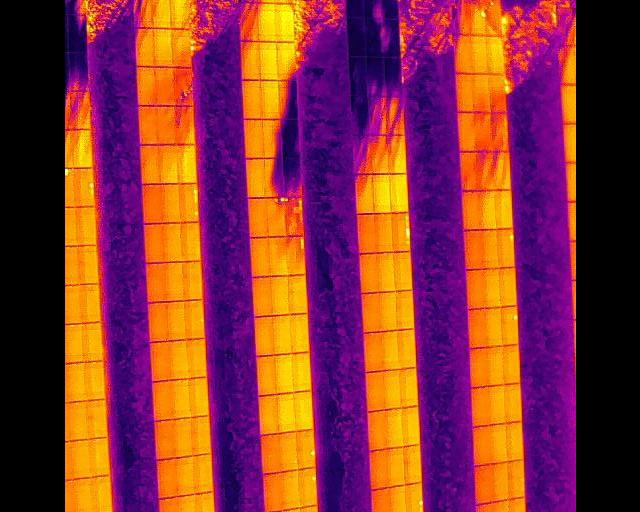Cell: (183, 301, 203, 340), (296, 430, 314, 470), (496, 230, 514, 269), (500, 306, 518, 345), (484, 0, 500, 36), (469, 0, 484, 36)
Cell-Multi: (72, 168, 93, 207), (178, 184, 198, 223), (389, 213, 409, 252), (285, 237, 303, 276), (266, 198, 284, 237), (299, 468, 316, 509), (284, 198, 302, 236), (506, 461, 523, 499), (404, 483, 422, 512)
No-Anomaly: (66, 439, 88, 480), (76, 246, 98, 285), (74, 207, 96, 246), (83, 362, 104, 402), (78, 284, 100, 322), (64, 402, 85, 441), (168, 380, 189, 419), (188, 378, 208, 418), (80, 323, 101, 361), (85, 401, 106, 439), (153, 67, 173, 106), (185, 339, 205, 378), (167, 341, 187, 380), (139, 145, 159, 184), (181, 261, 201, 300), (250, 238, 270, 277), (70, 129, 90, 168), (258, 394, 276, 437), (192, 455, 212, 493), (141, 184, 160, 224), (190, 417, 210, 455), (162, 262, 181, 302), (176, 145, 196, 183), (180, 223, 200, 261), (294, 391, 313, 431), (246, 158, 265, 198), (261, 434, 279, 476), (469, 348, 488, 387), (160, 184, 179, 223), (165, 302, 184, 341), (170, 29, 189, 68), (171, 419, 190, 458), (174, 457, 193, 496), (64, 363, 83, 402), (395, 291, 414, 330), (373, 214, 392, 253), (356, 215, 375, 254), (274, 4, 293, 43), (258, 355, 276, 396), (276, 393, 294, 434), (254, 315, 272, 356), (280, 431, 297, 474), (69, 479, 91, 512), (88, 439, 107, 477), (138, 105, 156, 145), (149, 342, 167, 382), (153, 420, 171, 460), (290, 314, 308, 354), (397, 329, 415, 369), (253, 277, 271, 317), (244, 119, 262, 159), (90, 478, 111, 512), (282, 469, 299, 511), (472, 426, 490, 465), (454, 35, 472, 74), (464, 231, 482, 270), (455, 73, 473, 112), (147, 302, 165, 341), (498, 268, 516, 307), (161, 223, 179, 262), (261, 80, 279, 119), (403, 446, 421, 485), (502, 345, 520, 384), (135, 67, 153, 106), (143, 224, 161, 263), (289, 276, 307, 315), (401, 407, 419, 446), (393, 252, 411, 291), (389, 174, 407, 213), (377, 292, 395, 331), (368, 449, 386, 488), (364, 372, 382, 411), (264, 472, 282, 511), (259, 42, 277, 81), (240, 42, 258, 81), (243, 80, 261, 119), (293, 352, 310, 393), (466, 270, 484, 308), (487, 347, 505, 385), (484, 308, 502, 346), (474, 466, 492, 504), (470, 36, 488, 74), (494, 191, 512, 229), (156, 107, 174, 145), (399, 369, 417, 407), (386, 448, 404, 486), (367, 411, 385, 449), (457, 112, 474, 152), (145, 263, 162, 303), (273, 315, 290, 355), (505, 422, 522, 462), (372, 174, 389, 214), (359, 253, 376, 293), (361, 293, 378, 333), (271, 276, 288, 316), (151, 381, 168, 420), (558, 85, 575, 124), (136, 29, 153, 68), (504, 384, 521, 423), (489, 424, 506, 463), (157, 459, 174, 498), (159, 145, 176, 184), (461, 191, 478, 230), (473, 73, 490, 112), (64, 324, 81, 363), (380, 332, 397, 371), (376, 252, 393, 291), (363, 333, 380, 372), (268, 237, 285, 276), (248, 198, 265, 237), (276, 354, 292, 395), (467, 309, 484, 347), (479, 191, 496, 229), (491, 463, 508, 501), (153, 29, 170, 67), (488, 386, 505, 424), (258, 3, 274, 43), (483, 268, 499, 307), (386, 409, 402, 448), (481, 230, 497, 268), (471, 388, 487, 426), (383, 370, 399, 408), (486, 37, 502, 74), (64, 285, 79, 324), (370, 488, 389, 512), (388, 486, 405, 512), (195, 494, 214, 512), (175, 496, 194, 512), (158, 498, 175, 512), (507, 499, 525, 512), (492, 501, 508, 512), (476, 503, 493, 512)
Shadowing: (174, 106, 195, 145), (68, 53, 89, 92), (172, 68, 192, 107), (69, 92, 90, 129), (262, 119, 281, 158), (264, 158, 283, 197), (348, 57, 366, 98), (67, 15, 86, 53), (385, 98, 404, 136), (387, 136, 406, 174), (366, 58, 384, 98), (283, 158, 301, 198), (351, 137, 370, 174), (476, 152, 494, 191), (558, 8, 576, 46), (367, 98, 385, 136), (474, 112, 491, 152), (355, 174, 372, 214), (346, 19, 364, 56), (459, 152, 476, 191), (559, 46, 576, 85), (493, 151, 510, 190), (281, 119, 298, 158), (490, 113, 507, 152), (350, 97, 367, 136), (279, 80, 296, 119), (370, 136, 387, 174), (381, 19, 398, 57), (364, 20, 381, 58), (276, 42, 293, 80), (240, 3, 257, 41), (384, 58, 400, 98), (168, 0, 189, 30), (489, 75, 505, 113), (454, 0, 470, 35), (151, 0, 169, 29), (133, 0, 150, 29), (345, 0, 364, 19), (364, 0, 382, 19), (381, 0, 395, 19), (66, 0, 84, 14)
